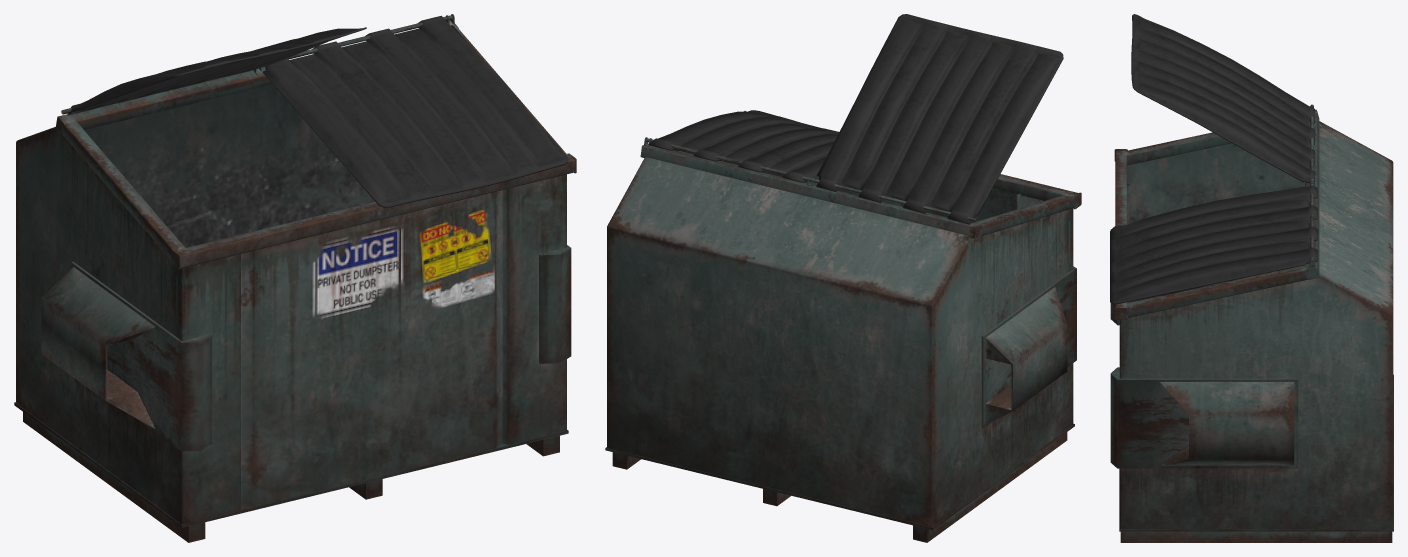
The model's file is dumpster_old_and_weathered.glb.
3 renders of one model, left to right at view 1: azimuth 30°, elevation 25°; view 2: azimuth 150°, elevation 25°; view 3: azimuth 270°, elevation 25°, orthographic. The views are drawn at different scales.
Parts seen in each view (by area): view 1: Dumpster.001, DumpsterLid_Right.001, DumpsterLid_Left.001; view 2: Dumpster.001, DumpsterLid_Left.001, DumpsterLid_Right.001; view 3: Dumpster.001, DumpsterLid_Right.001, DumpsterLid_Left.001.
Part boxes in pixels (x1=…): Dumpster.001: x1=14, y1=14, x2=576, y2=542; DumpsterLid_Right.001: x1=263, y1=15, x2=568, y2=207; DumpsterLid_Left.001: x1=67, y1=27, x2=366, y2=115; Dumpster.001: x1=605, y1=111, x2=1081, y2=542; DumpsterLid_Left.001: x1=816, y1=14, x2=1063, y2=224; DumpsterLid_Right.001: x1=649, y1=110, x2=839, y2=182; Dumpster.001: x1=1110, y1=104, x2=1393, y2=542; DumpsterLid_Right.001: x1=1110, y1=185, x2=1317, y2=304; DumpsterLid_Left.001: x1=1131, y1=14, x2=1314, y2=183.
Bounding box in the file's own units: 2.36 × 2.3 × 1.56.
1 material, 1 textured.
